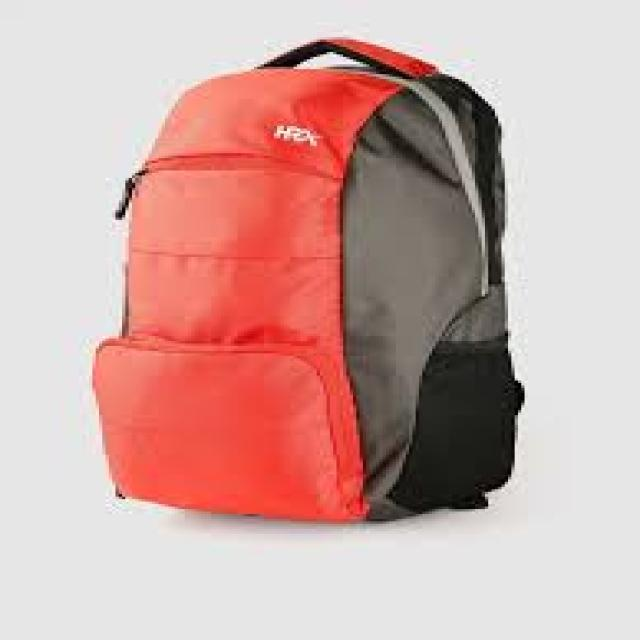backpack: (89, 34, 525, 522)
